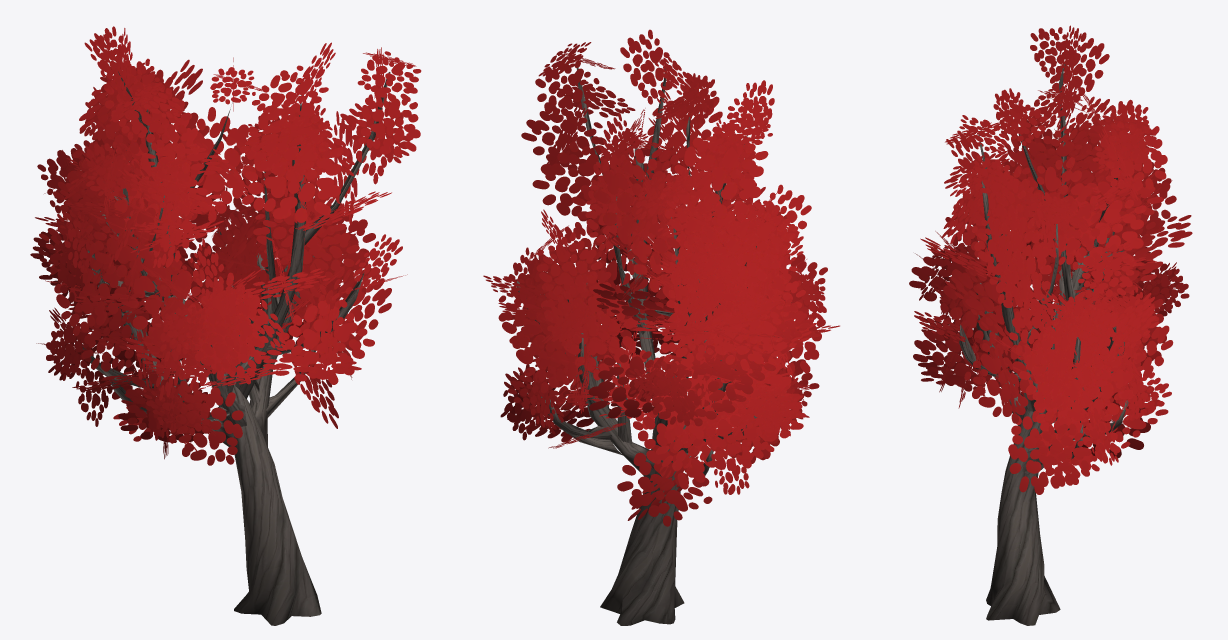
File: twisted_tree_free_model_b_lo.glb
The picture shows the model from 3 angles, left to right: view 1: azimuth 30°, elevation 25°; view 2: azimuth 150°, elevation 25°; view 3: azimuth 270°, elevation 25°; orthographic projection. The views are drawn at different scales.
Parts seen in each view (by area): view 1: TwistedTree_2; view 2: TwistedTree_2; view 3: TwistedTree_2.
Boxes of the visible parts, box(x1,y1,x2,y2) form: TwistedTree_2: box(30, 26, 421, 625); TwistedTree_2: box(483, 29, 839, 625); TwistedTree_2: box(909, 25, 1192, 625).
Bounding box in the file's own units: 12.27 × 19.63 × 10.77.
2 materials, 2 textured.
